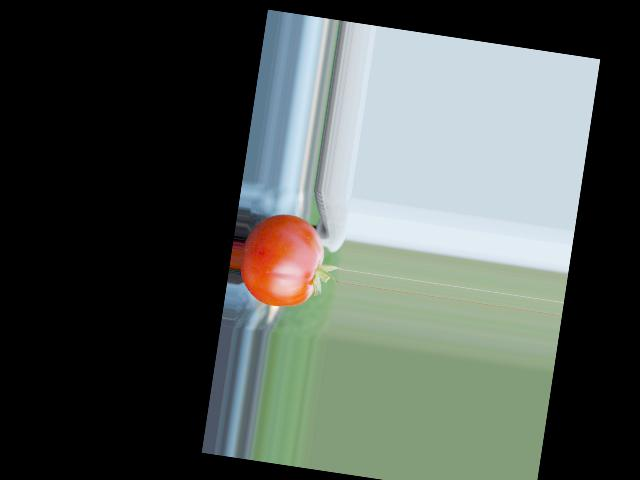tomato: (235, 209, 328, 312)
